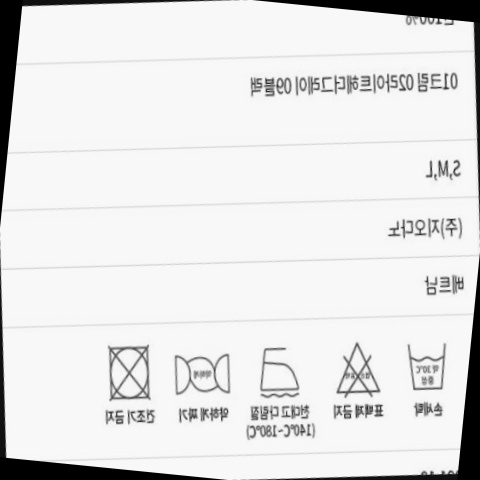30C: (394, 331, 457, 397)
DN_tumble_dry: (94, 333, 164, 410)
iron: (162, 340, 241, 403), (246, 333, 312, 405)
non_chlorine_bleach: (321, 331, 390, 405)
